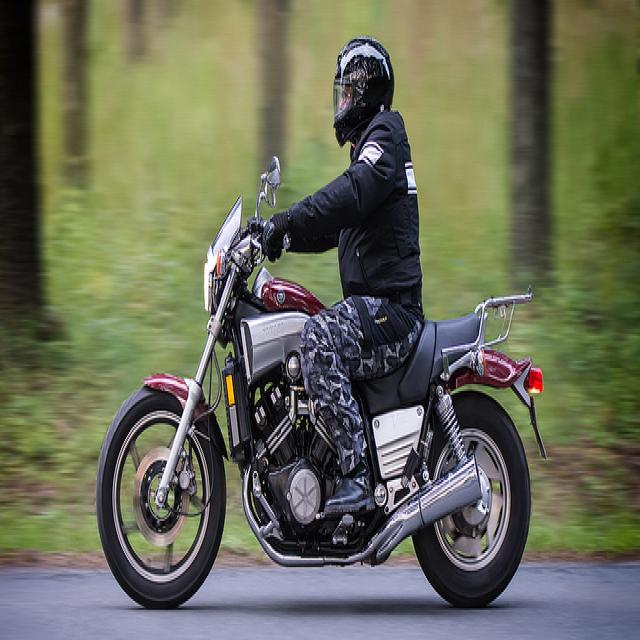motor: (99, 158, 552, 608)
